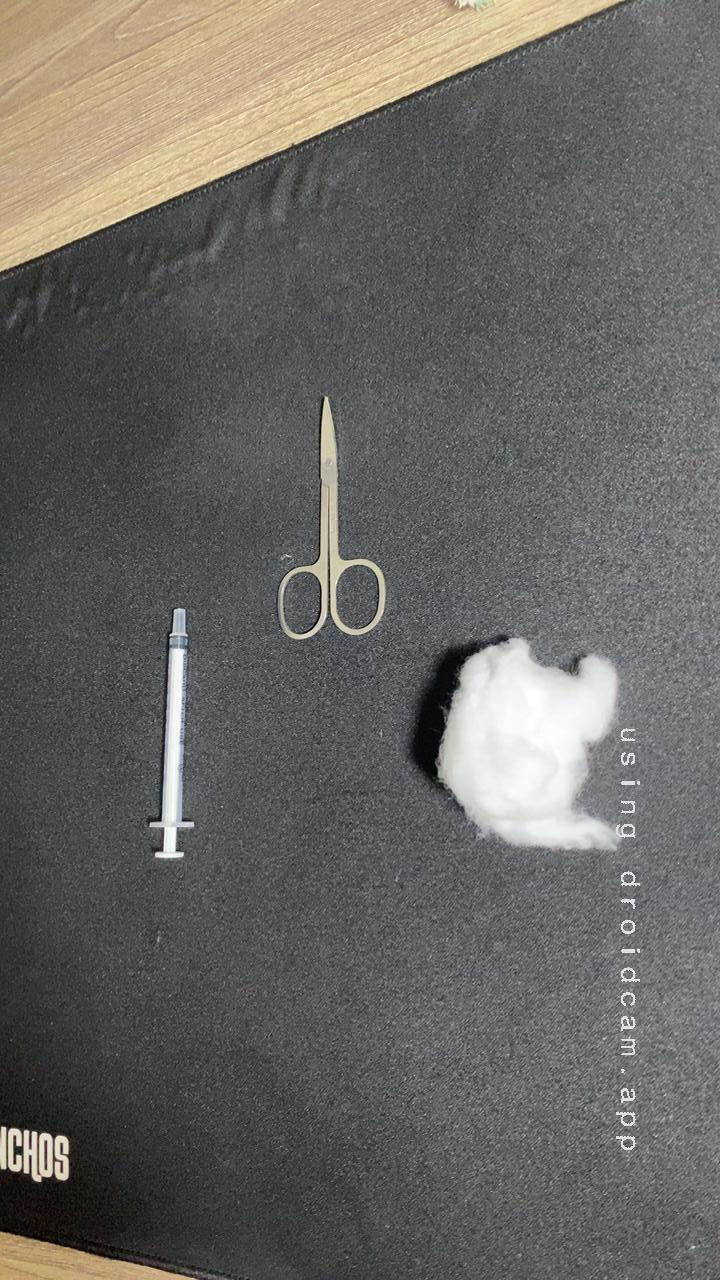cotton: (398, 622, 664, 870)
scissor: (259, 385, 406, 651)
syringe: (125, 594, 243, 875)
